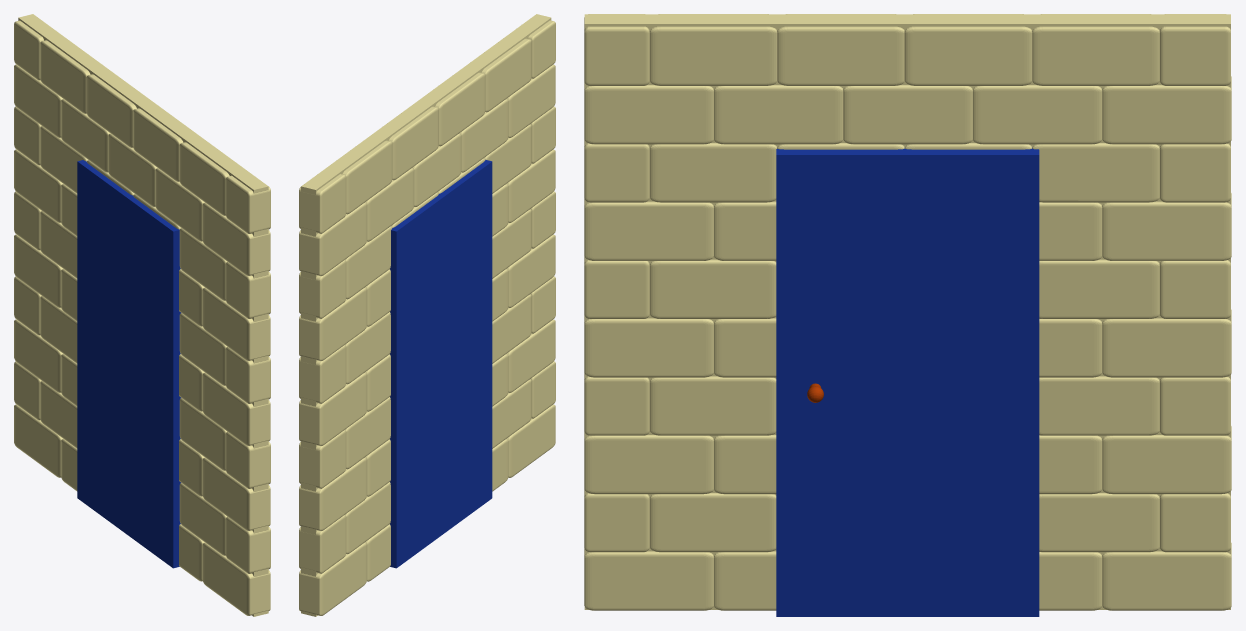
File: door.fbx
3 views of the same model, side by side, from view 1: azimuth 30°, elevation 25°; view 2: azimuth 150°, elevation 25°; view 3: azimuth 270°, elevation 25° (orthographic). The views are drawn at different scales.
Visible parts, largest first — view 1: Cube.006, Cube; view 2: Cube.006, Cube; view 3: Cube.006, Cube.
Boxes of the visible parts, x1,y1,x2,y2 form: Cube.006: (14,14,270,616); Cube: (77,160,180,568); Cube.006: (299,14,555,616); Cube: (390,160,492,568); Cube.006: (584,14,1231,610); Cube: (776,148,1039,616).
Bounding box in the file's own units: 24.61 × 200 × 200.
